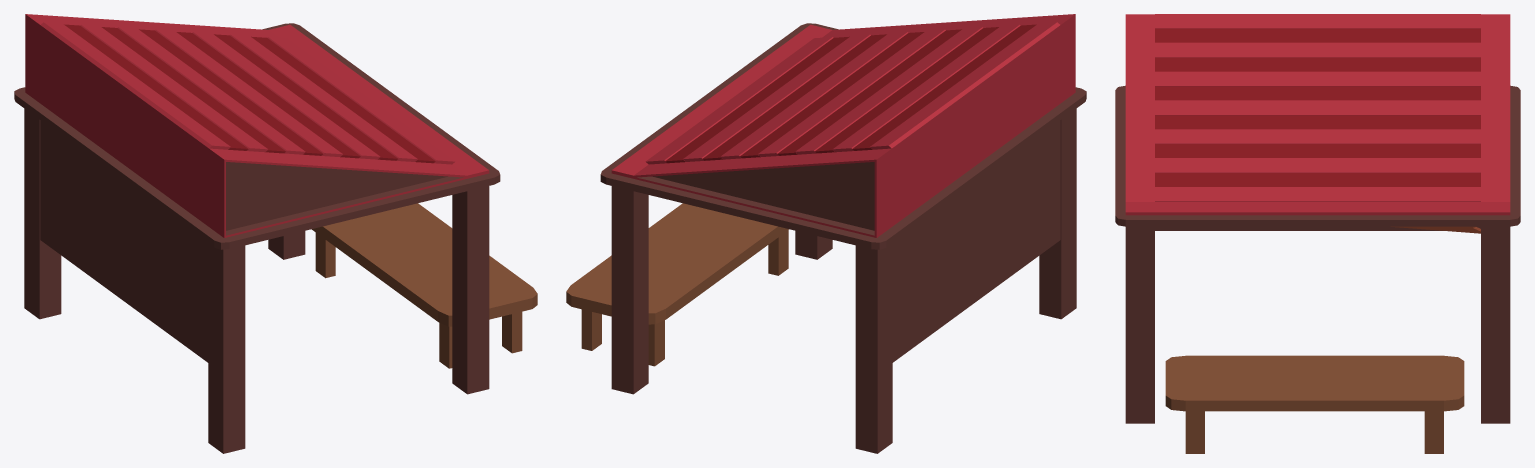
The model's file is joyeria.fbx.
3 renders of one model, left to right at view 1: azimuth 30°, elevation 25°; view 2: azimuth 150°, elevation 25°; view 3: azimuth 270°, elevation 25°, orthographic. The views are drawn at different scales.
Parts seen in each view (by area): view 1: caseta_joyeria, mostrador; view 2: caseta_joyeria, mostrador; view 3: caseta_joyeria, mostrador.
Boxes of the visible parts, <box> form: caseta_joyeria: <box>14,14,500,453</box>; mostrador: <box>312,203,537,368</box>; caseta_joyeria: <box>600,14,1086,453</box>; mostrador: <box>566,203,788,366</box>; caseta_joyeria: <box>1115,14,1520,423</box>; mostrador: <box>1165,355,1464,453</box>.
Bounding box in the file's own units: 621 × 503 × 645.
